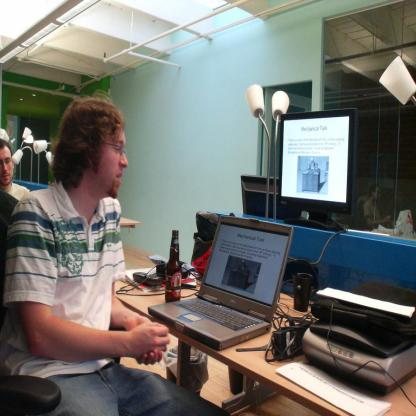board: (146, 212, 294, 352), (166, 230, 183, 303)
